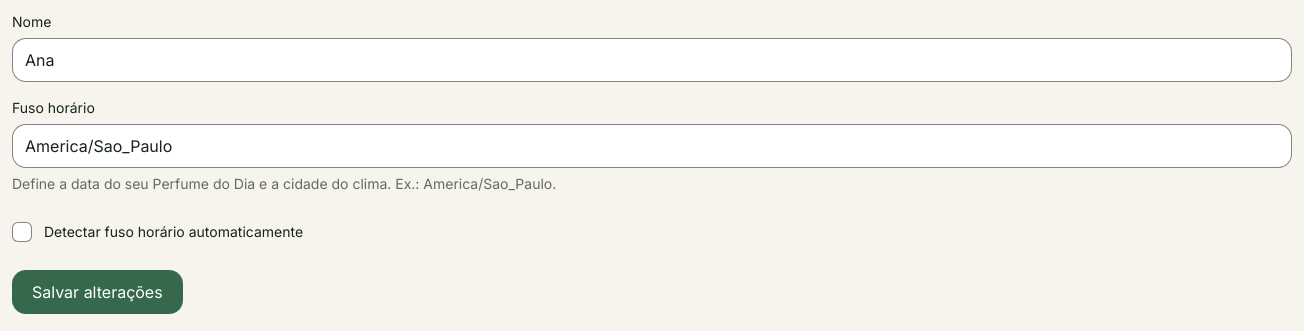
Test: ProfileForm: fuso automático › ligar de novo atualiza o campo na hora e avisa
Replace the text in the field labelled "Fuso horário" with "Asia/Tokyo" at coordinates (652, 146), box [12,124,1292,168]
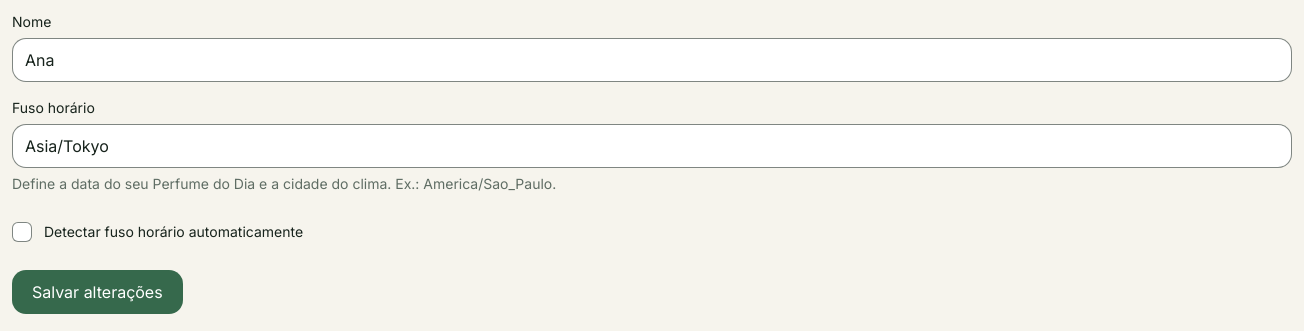
Click the checkbox labelled "Detectar fuso horário automaticamente" at coordinates (22, 232), box [12,222,32,242]
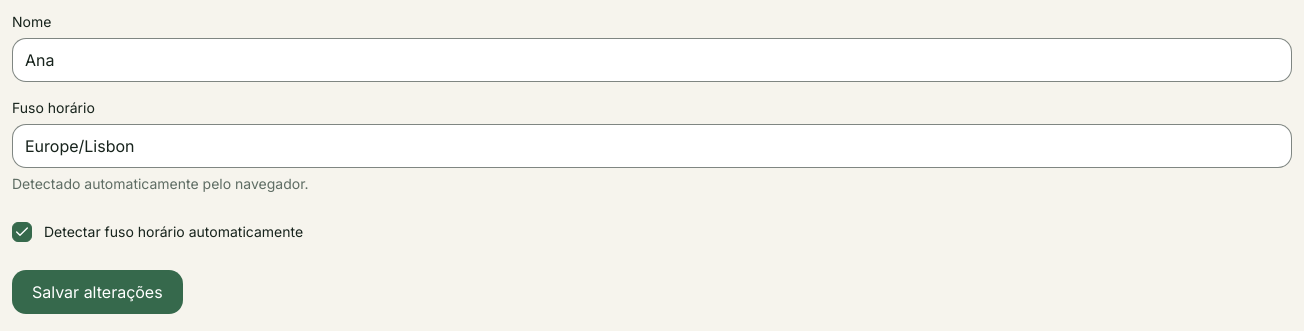
Result: the field labelled "Fuso horário" holds "Europe/Lisbon" at [12,124,1292,168]
